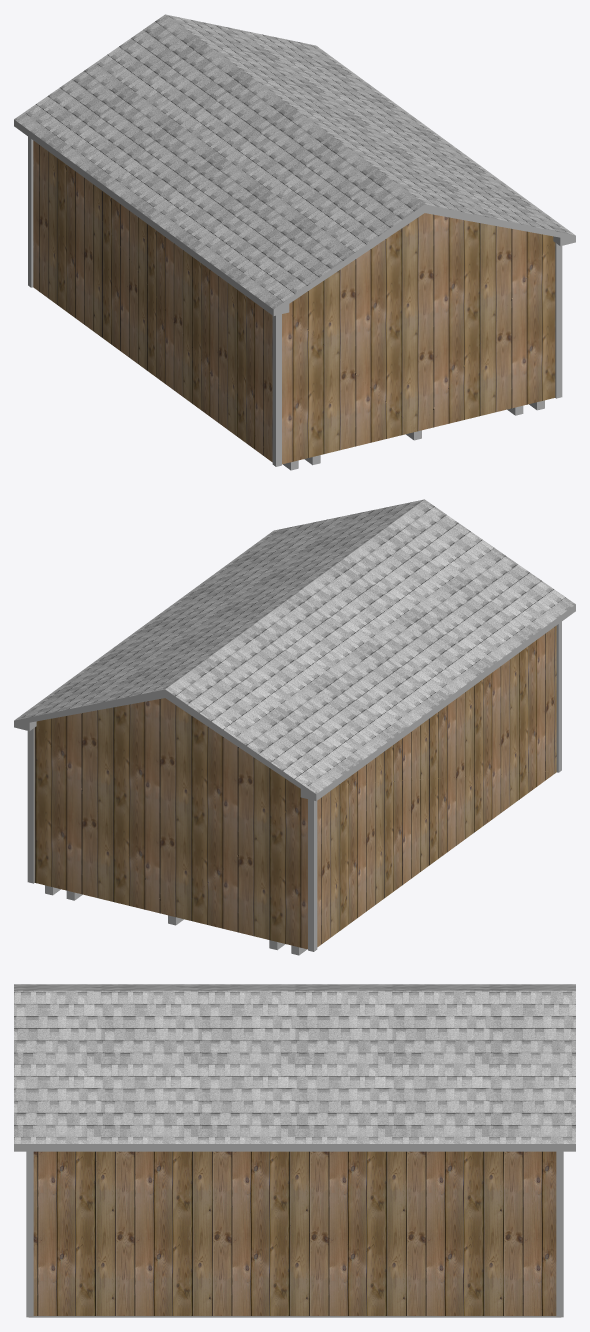
File: Classic A-Frame_12x18.obj
3 renders of one model, top to bottom at view 1: azimuth 30°, elevation 25°; view 2: azimuth 150°, elevation 25°; view 3: azimuth 270°, elevation 25°, orthographic. The views are drawn at different scales.
Parts seen in each view (by area): view 1: Shed, Roof, Sides, Trim; view 2: Shed, Roof, Sides, Trim; view 3: Roof, Shed, Sides, Trim, Floor.
Part boxes in pixels (x1,y1,x2,y2): Shed: (33, 140, 555, 464); Roof: (14, 14, 575, 309); Sides: (14, 119, 575, 316); Trim: (28, 137, 562, 466); Shed: (34, 625, 556, 949); Roof: (14, 499, 575, 794); Sides: (14, 604, 575, 801); Trim: (27, 622, 561, 951); Roof: (14, 984, 575, 1143); Shed: (33, 1151, 556, 1315); Sides: (14, 1144, 575, 1151); Trim: (26, 1151, 563, 1317); Floor: (29, 1316, 560, 1317).
Bounding box in the file's own units: 3.9 × 2.96 × 5.79.
